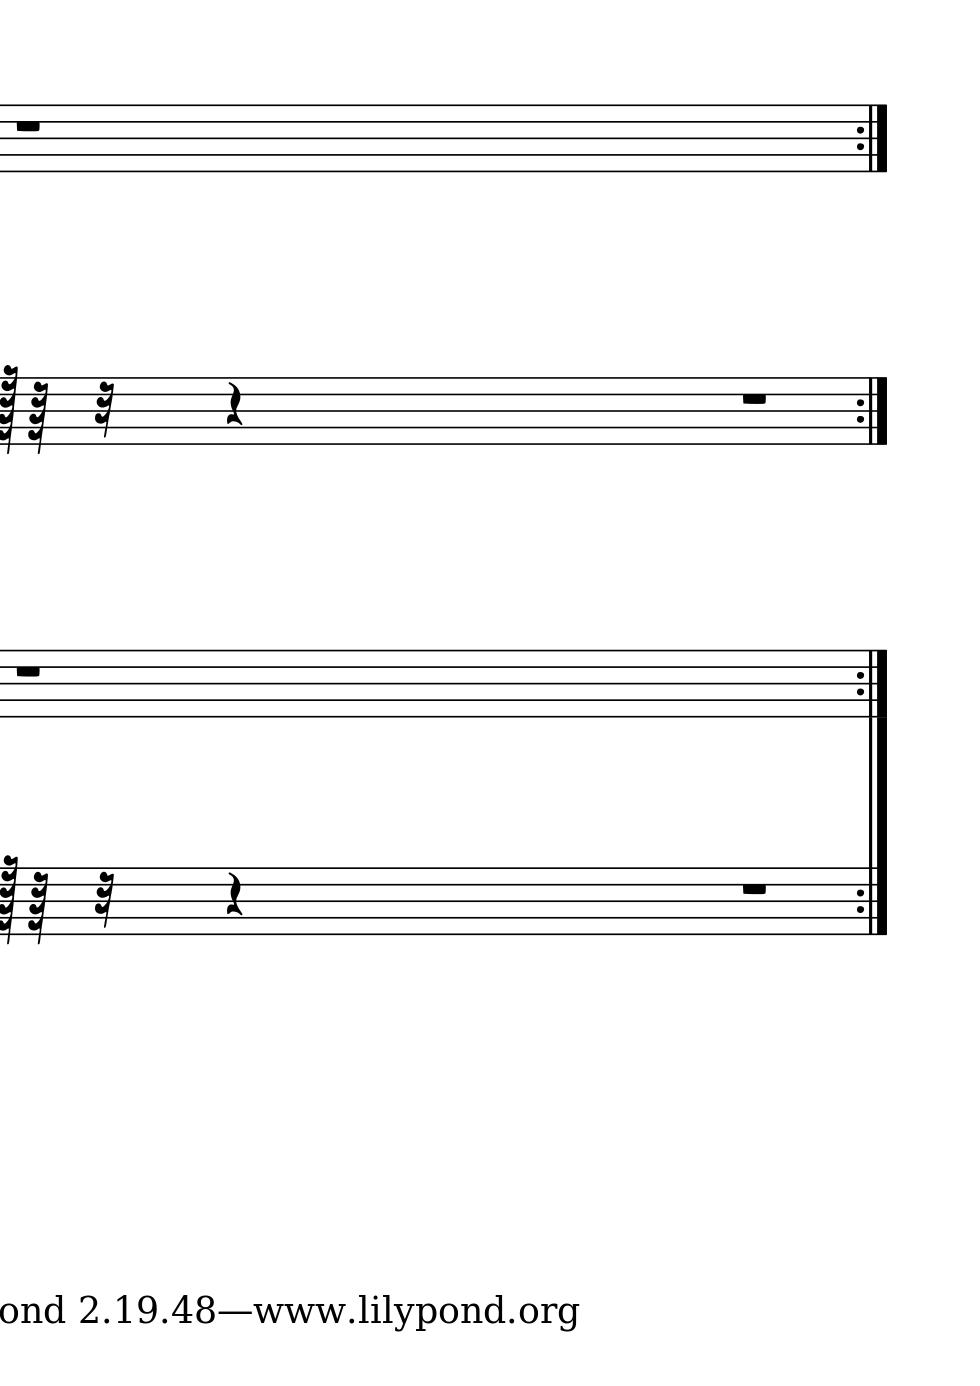Rests1: (736, 388, 772, 410), (11, 116, 45, 136), (11, 661, 45, 681), (737, 879, 771, 899)
Rests128: (1, 362, 20, 455), (1, 850, 19, 945)
Rests32: (92, 871, 115, 930), (93, 381, 116, 440)
Rests4: (223, 871, 244, 919), (223, 381, 244, 428)
Rests64: (27, 379, 48, 452), (27, 870, 48, 943)
RightRepeatSign: (853, 378, 891, 446), (853, 649, 891, 717), (854, 104, 891, 173), (853, 867, 890, 936)
